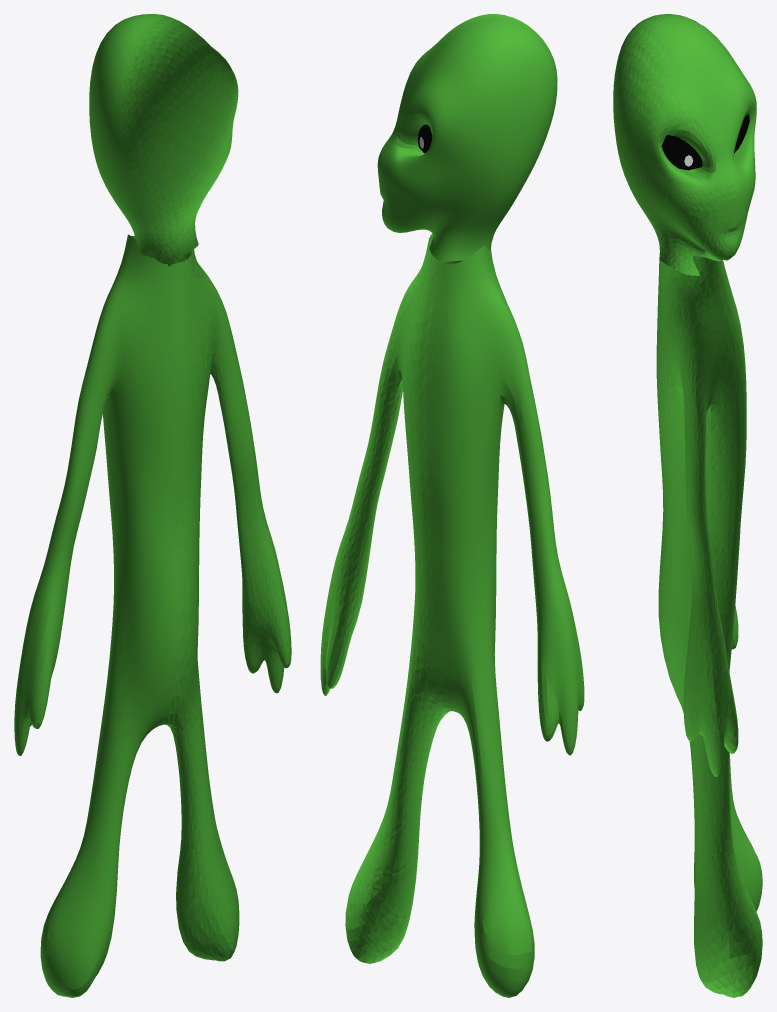
File: alien_animated_thiinner2.FBX
The picture shows the model from 3 angles, left to right: view 1: azimuth 30°, elevation 25°; view 2: azimuth 150°, elevation 25°; view 3: azimuth 270°, elevation 25°; orthographic projection. The views are drawn at different scales.
Parts seen in each view (by area): view 1: Alien_body, Group1; view 2: Alien_body, Group1; view 3: Alien_body, Group1, Circle001.
Boxes of the visible parts, x1,y1,x2,y2 form: Alien_body: (14, 234, 291, 997); Group1: (89, 14, 238, 266); Alien_body: (320, 234, 584, 997); Group1: (377, 14, 557, 261); Alien_body: (656, 256, 762, 997); Group1: (613, 14, 756, 275); Circle001: (661, 114, 749, 170).
Bounding box in the file's own units: 6.83 × 24.17 × 3.51.
Materials: 3 (3 with a texture image).
